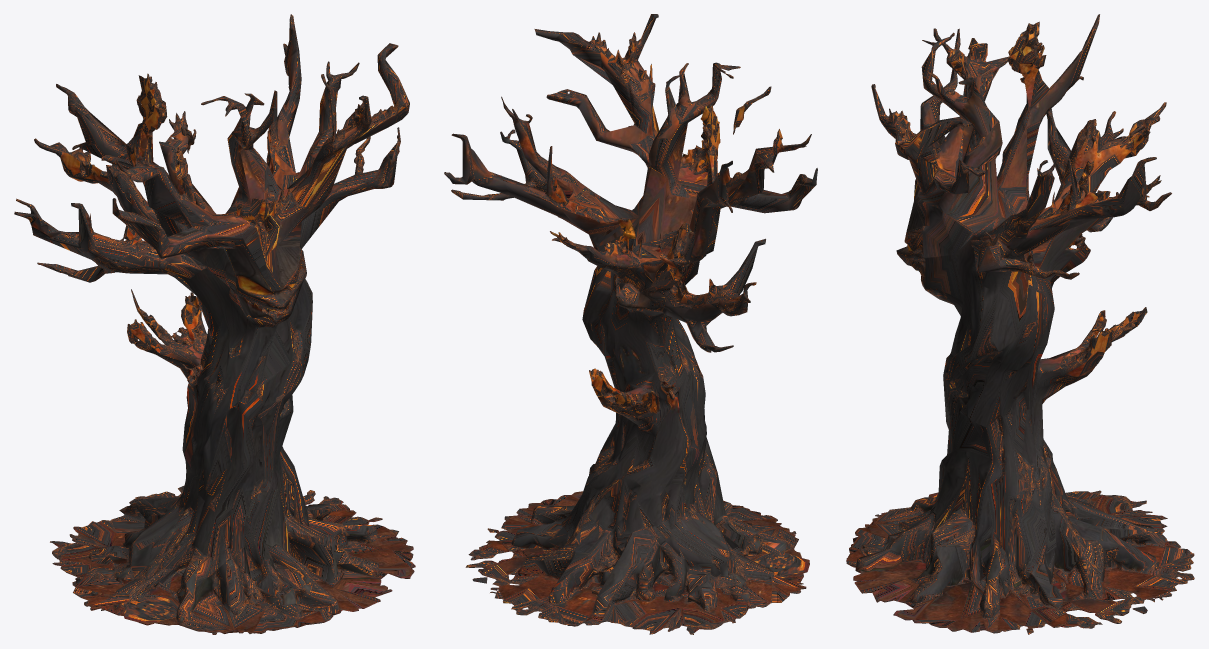
Rendered from tree_dead__burnt-ember-tree.glb.
The picture shows the model from 3 angles, left to right: view 1: azimuth 30°, elevation 25°; view 2: azimuth 150°, elevation 25°; view 3: azimuth 270°, elevation 25°; orthographic projection. The views are drawn at different scales.
Bounding box in the file's own units: 1.39 × 2 × 1.25.
1 material, 1 textured.
